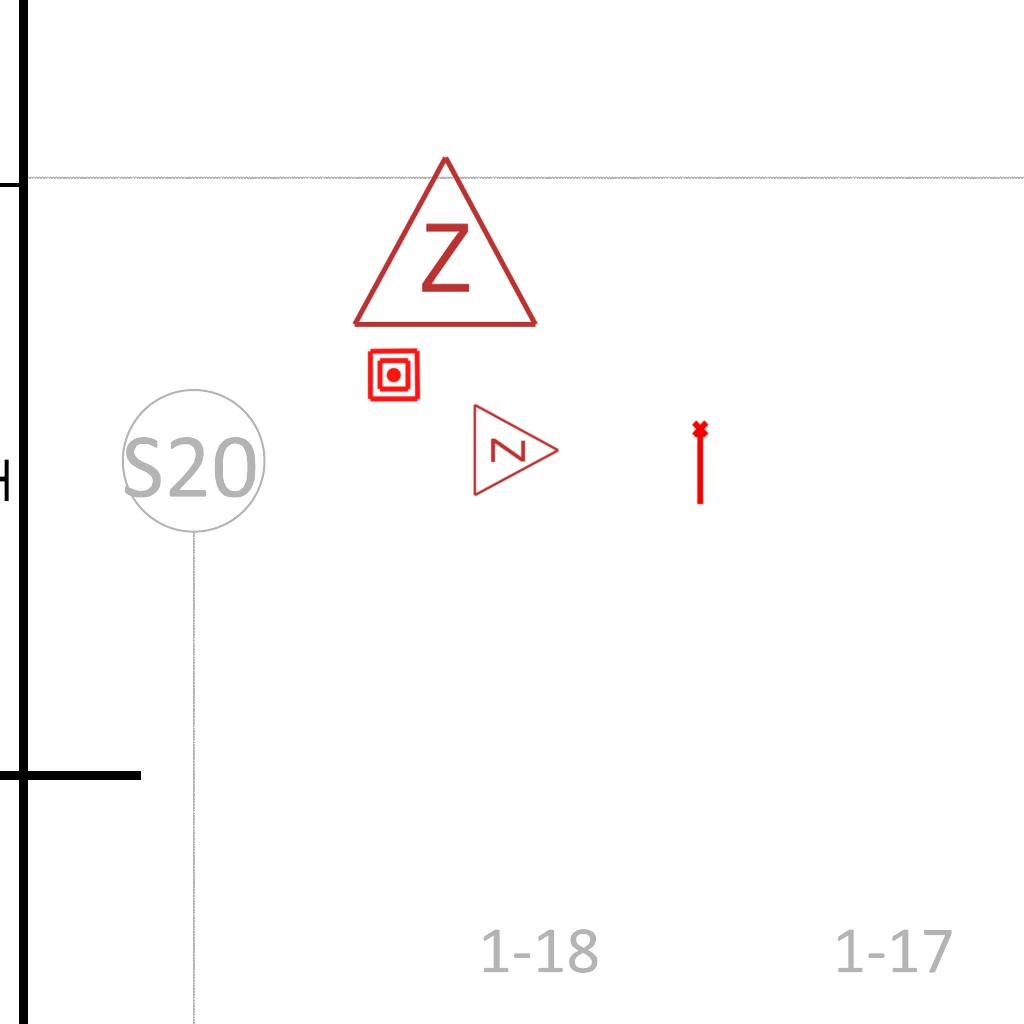ASR_Ansaugoeffnung: (690, 419, 713, 507)
NAM-Nichtautomatischer_Melder: (366, 347, 422, 403)
Zimmersignalleuchte: (345, 142, 541, 342), (466, 400, 566, 498)
